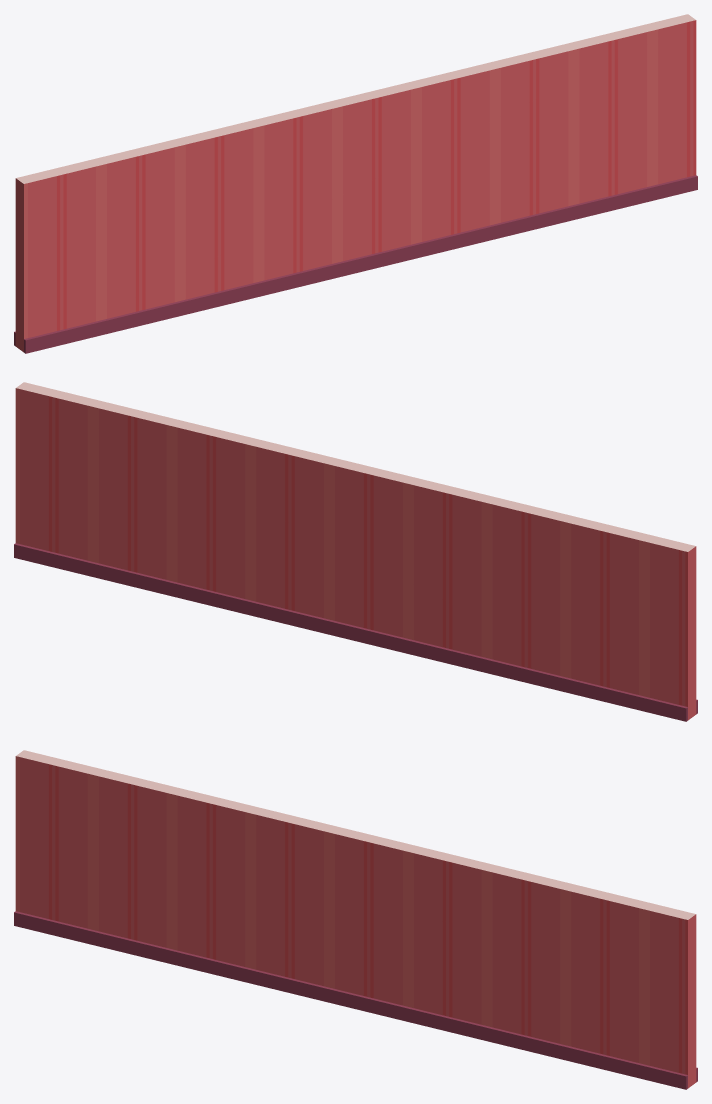
File: Map_bs_Wall1_geo.fbx
3 views of the same model, one above another, from view 1: azimuth 30°, elevation 25°; view 2: azimuth 150°, elevation 25°; view 3: azimuth 330°, elevation 25° (orthographic).
Parts seen in each view (by area): view 1: Map_bs_Wall1_geo; view 2: Map_bs_Wall1_geo; view 3: Map_bs_Wall1_geo.
Part boxes in pixels (x1,y1,x2,y2): Map_bs_Wall1_geo: [14, 14, 697, 353]; Map_bs_Wall1_geo: [14, 382, 697, 721]; Map_bs_Wall1_geo: [14, 750, 697, 1089].
Size of the model in its own units: 8.51 by 0.2564 by 2.04.
